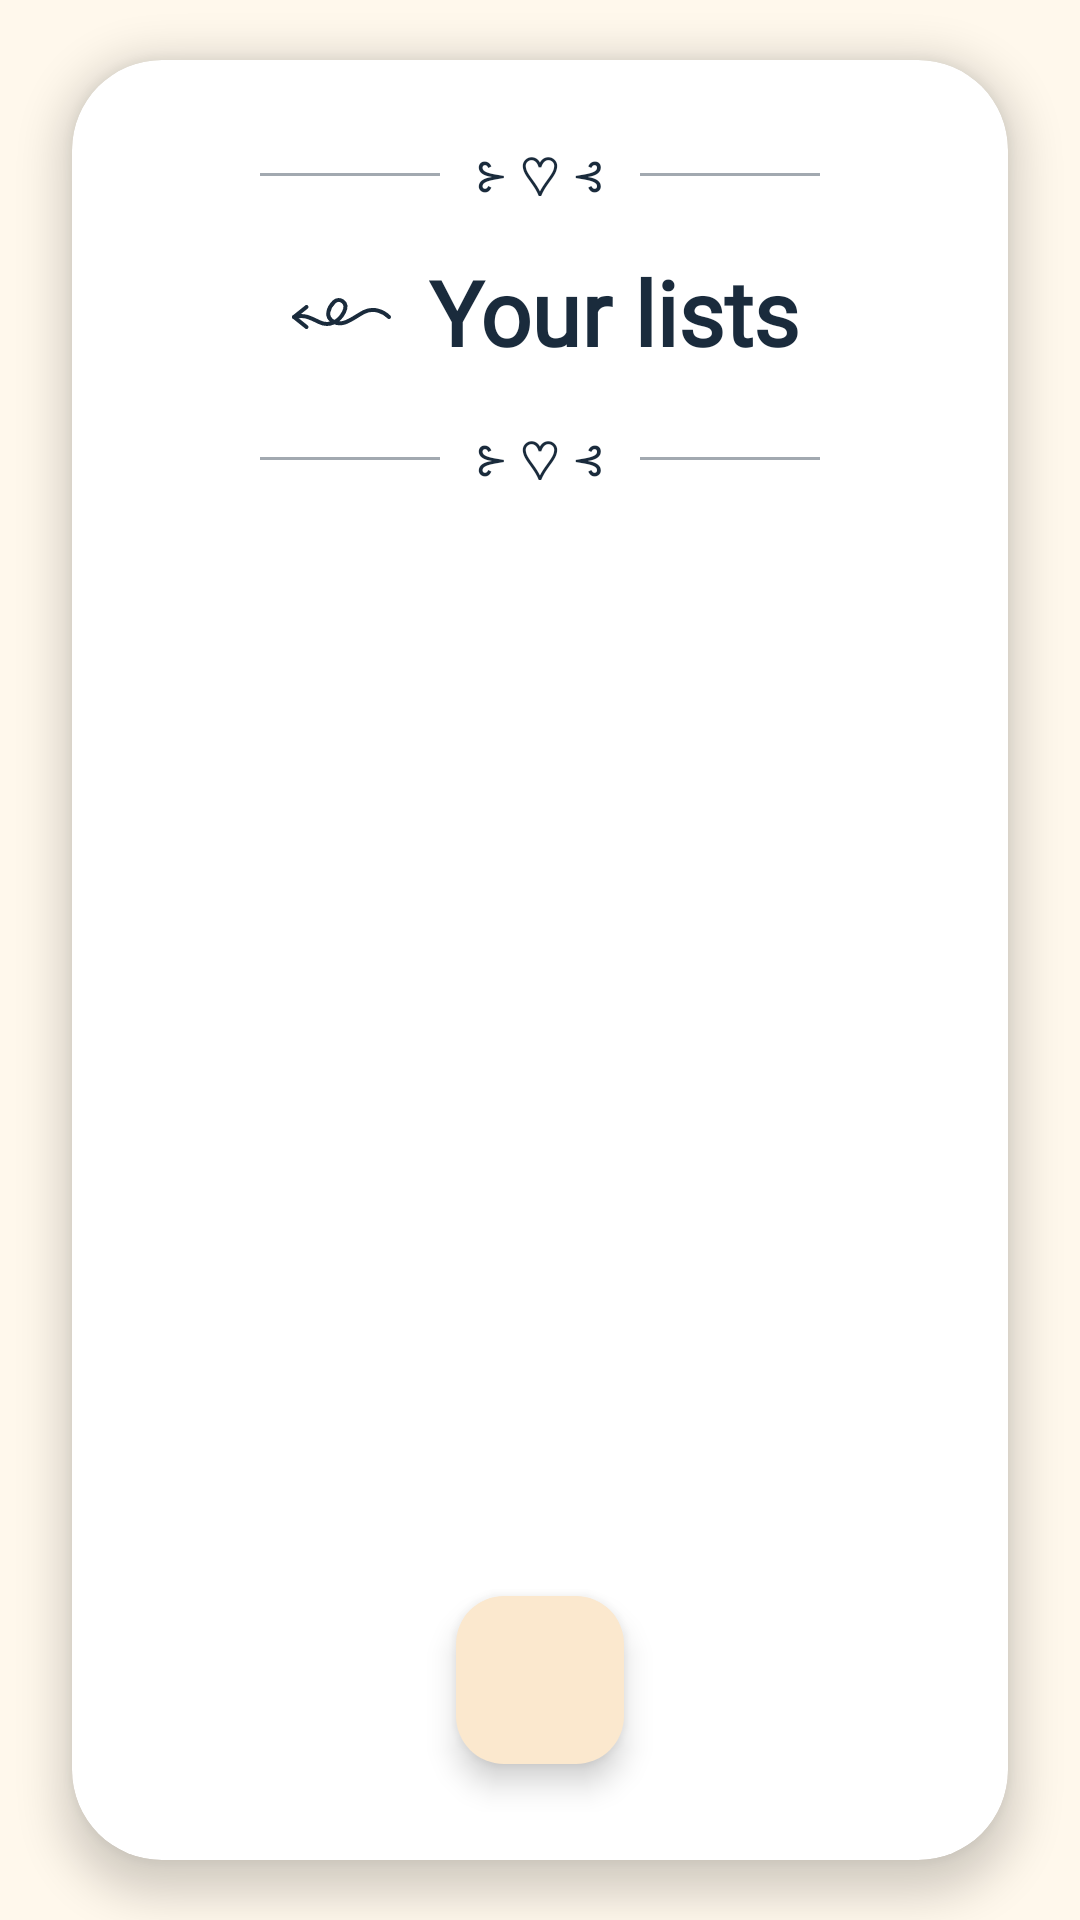

Locate icon controls on the screen. Image size 1080*1920, boxes as (x1, y1, x2, y2).
back: (292, 298, 391, 329)
